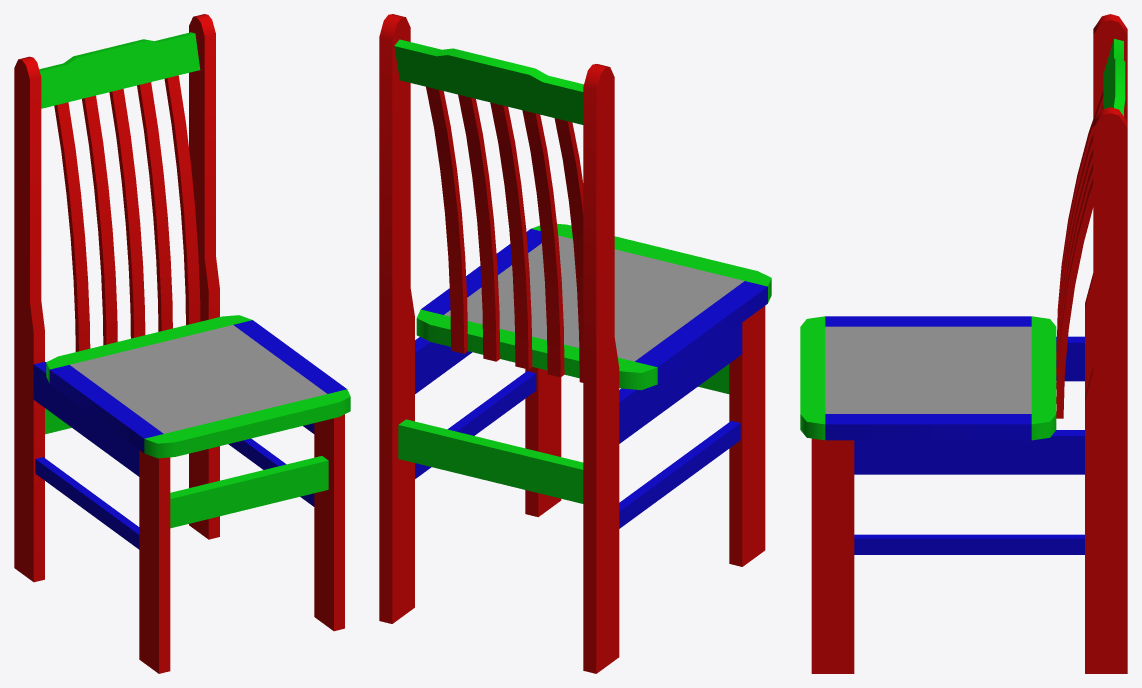
File: grandpa_chair.FBX
3 views of the same model, side by side, from view 1: azimuth 30°, elevation 25°; view 2: azimuth 150°, elevation 25°; view 3: azimuth 270°, elevation 25° (orthographic). The views are drawn at different scales.
Parts seen in each view (by area): view 1: Box005, Object001; view 2: Box005, Object001; view 3: Box005, Object001.
Part boxes in pixels (bbox=[...]): Box005: bbox=[14, 14, 350, 673]; Object001: bbox=[70, 325, 326, 433]; Box005: bbox=[379, 14, 771, 673]; Object001: bbox=[444, 235, 744, 361]; Box005: bbox=[800, 14, 1127, 673]; Object001: bbox=[825, 326, 1031, 413].
Bounding box in the file's own units: 0.36 × 0.46 × 0.87.
